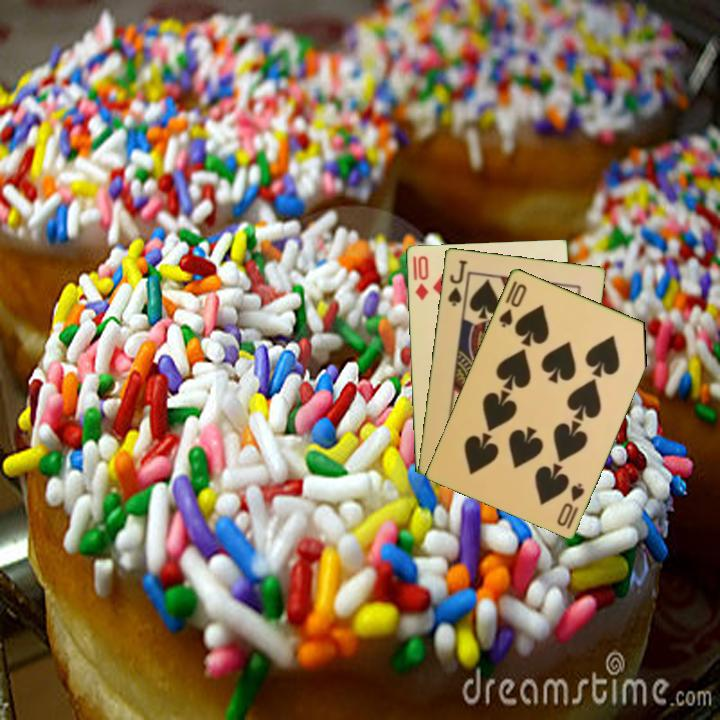10d: (412, 252, 431, 303)
10s: (495, 277, 530, 330), (553, 479, 587, 532)
Js: (444, 256, 470, 309)
